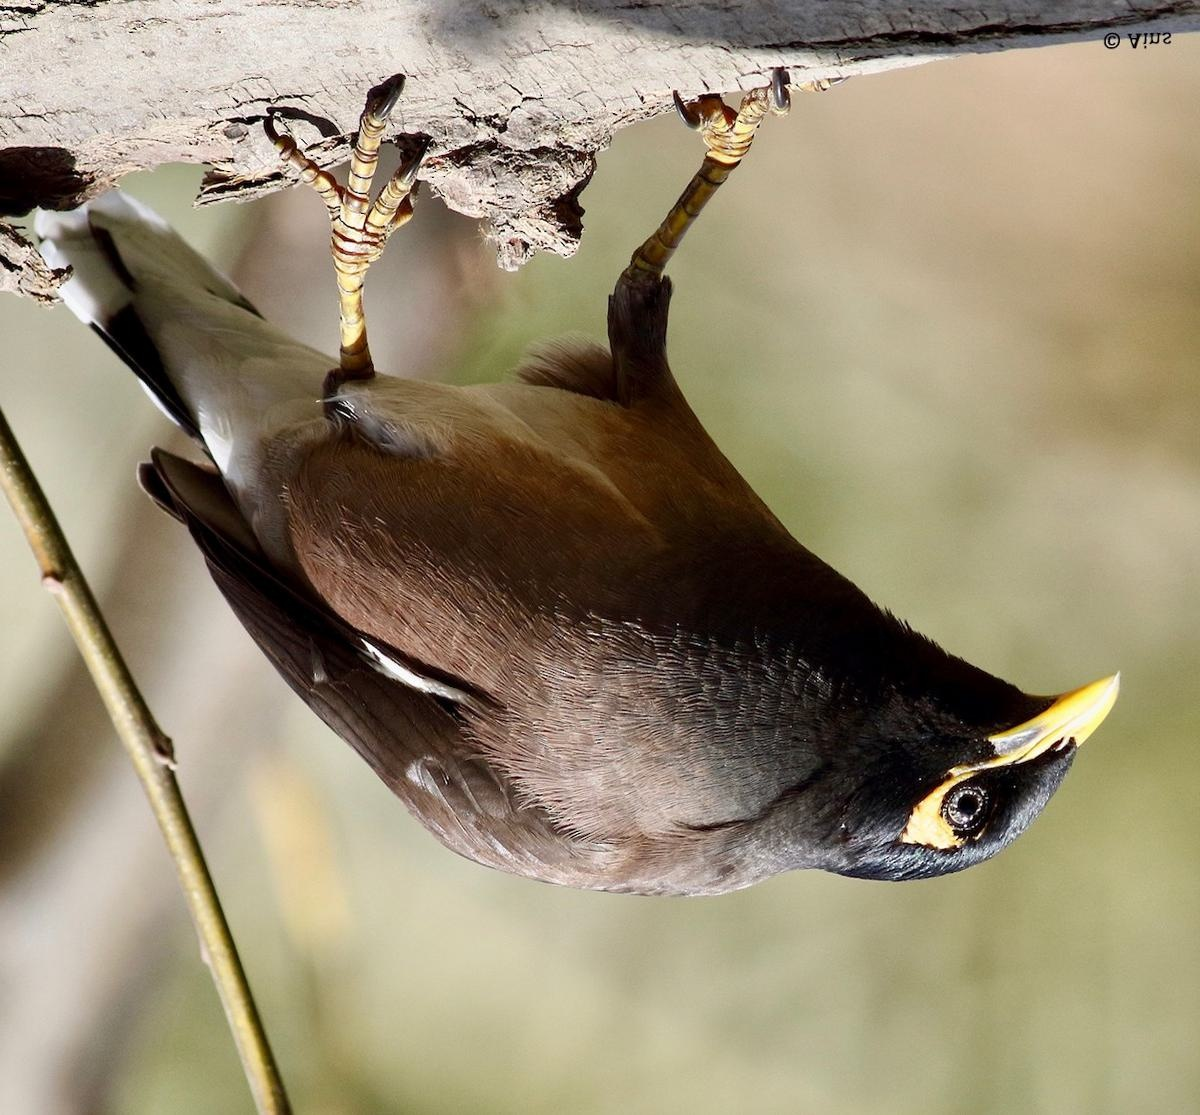myna: (136, 199, 1151, 937)
